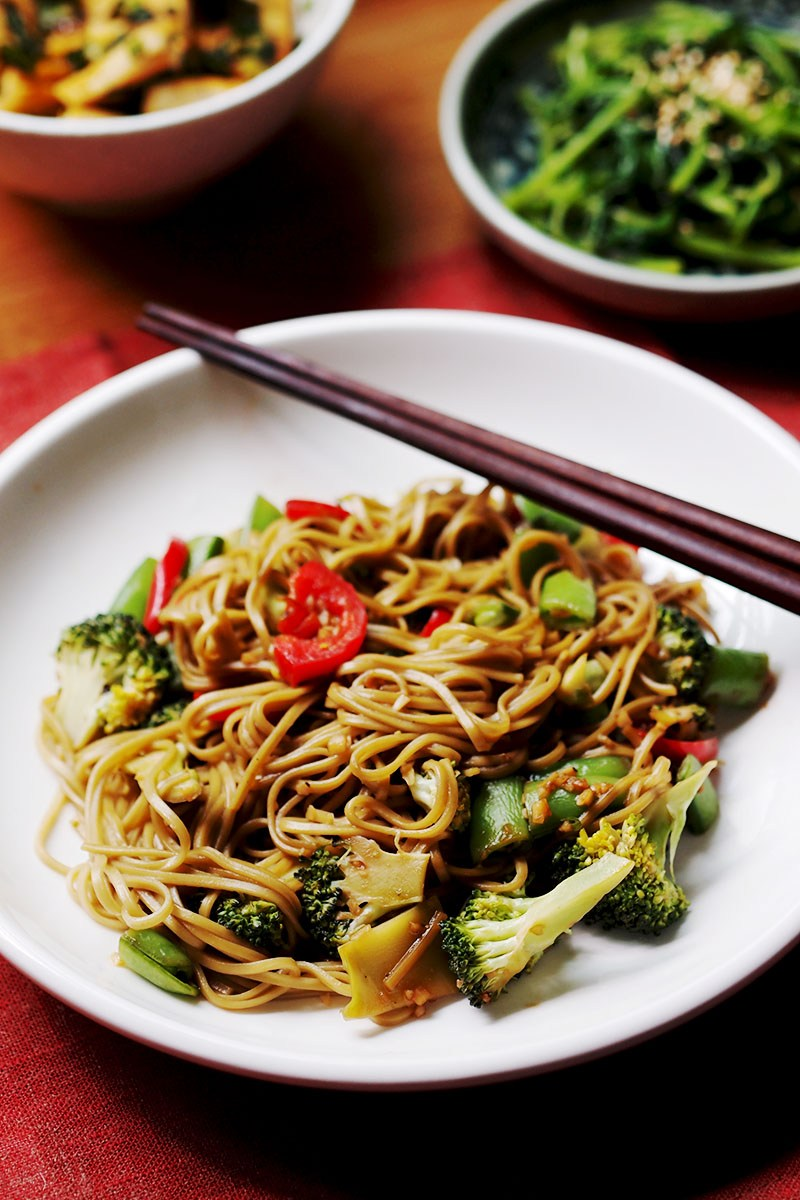Soba: (77, 501, 766, 1037)
